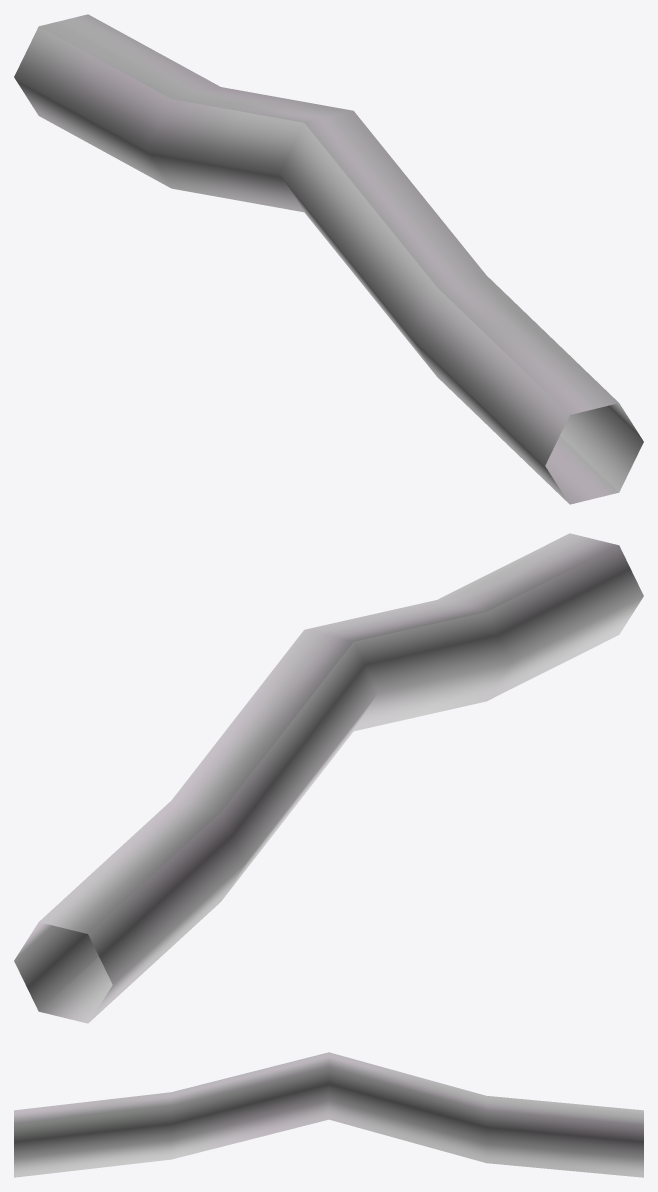
The model's file is cable_overlap_tiny.dae.
3 renders of one model, top to bottom at view 1: azimuth 30°, elevation 25°; view 2: azimuth 150°, elevation 25°; view 3: azimuth 270°, elevation 25°, orthographic. The views are drawn at different scales.
Visible parts, largest first — view 1: Mesh; view 2: Mesh; view 3: Mesh.
Part boxes in pixels (x1,y1,x2,y2): Mesh: (14,14,643,504); Mesh: (14,533,643,1023); Mesh: (14,1052,643,1177).
Bounding box in the file's own units: 0.0169 × 0.0306 × 0.1573.
